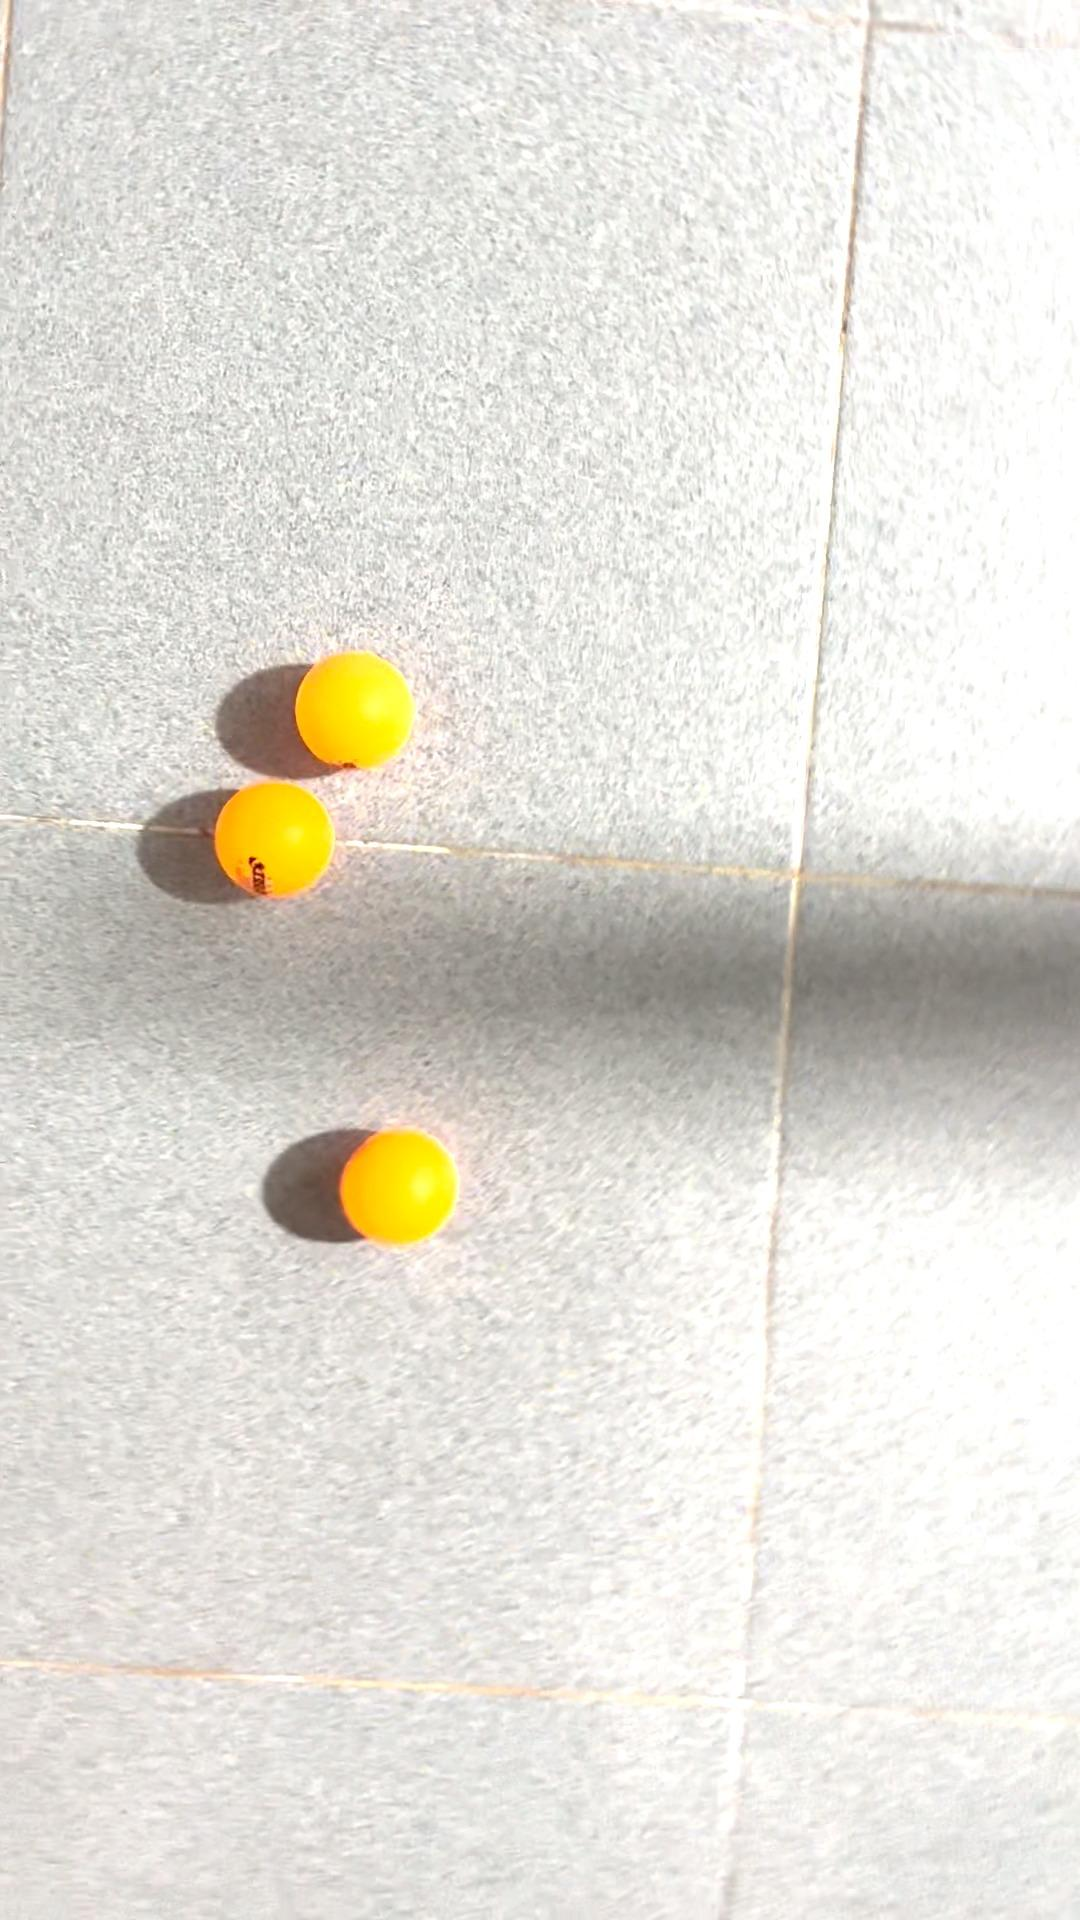oball: (291, 634, 438, 782), (202, 778, 331, 922), (342, 1127, 468, 1257)
